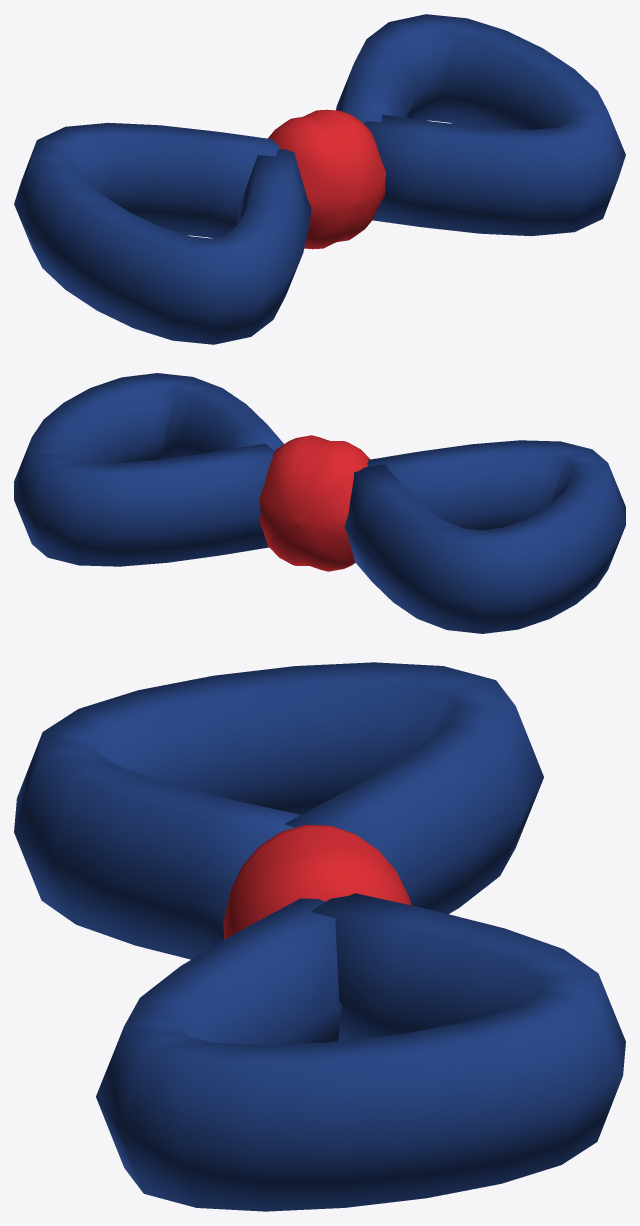
File: bowtie.glb
The picture shows the model from 3 angles, top to bottom: view 1: azimuth 30°, elevation 25°; view 2: azimuth 150°, elevation 25°; view 3: azimuth 270°, elevation 25°; orthographic projection. The views are drawn at different scales.
Parts seen in each view (by area): view 1: BowTie; view 2: BowTie; view 3: BowTie.
Part boxes in pixels (box(x1,y1,x2,y2)): BowTie: box(14, 14, 625, 344); BowTie: box(14, 373, 625, 633); BowTie: box(14, 662, 625, 1211).
Bounding box in the file's own units: 0.1399 × 0.0304 × 0.0863.
Materials: 2 (1 with a texture image).
